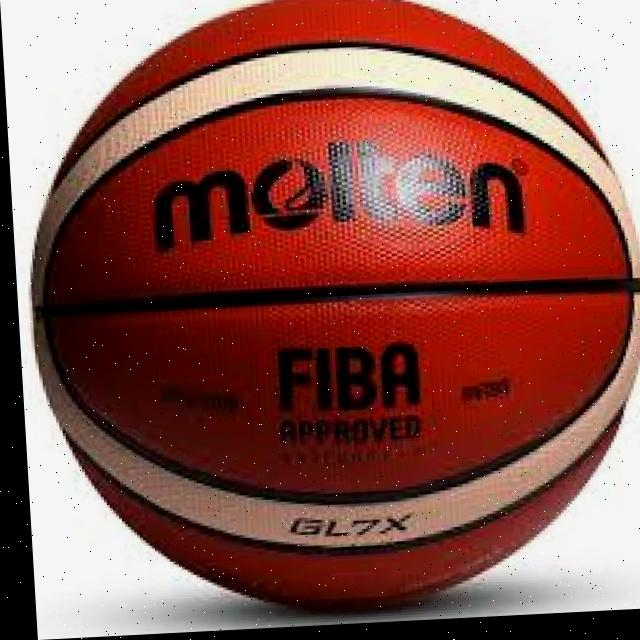Basketball: (17, 0, 640, 622)
